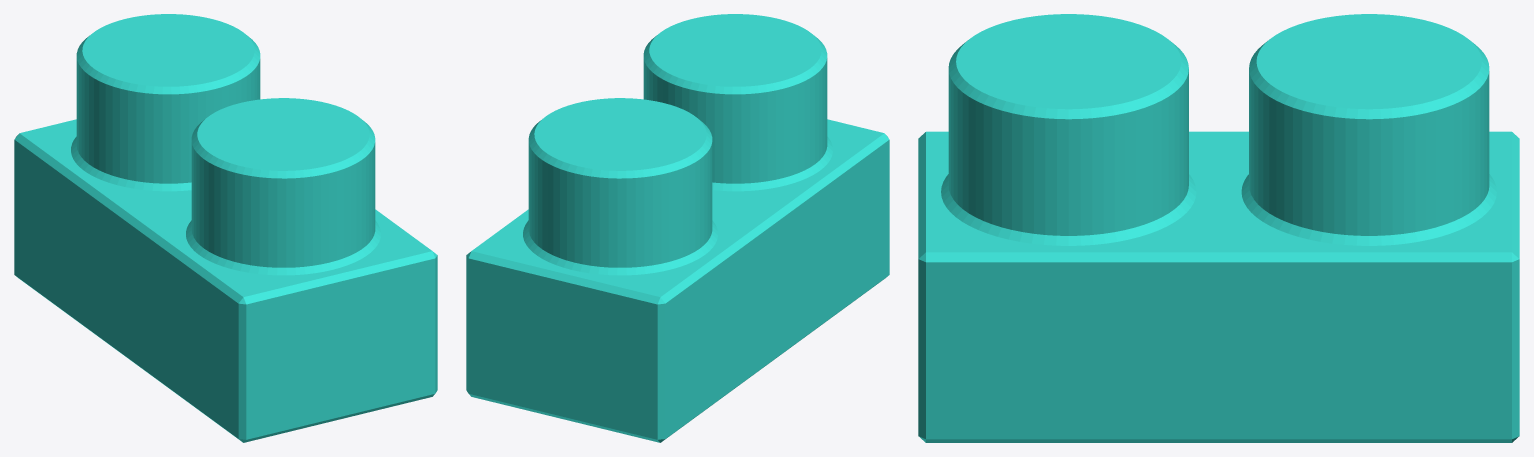
The model's file is lego_6.glb.
3 renders of one model, left to right at view 1: azimuth 30°, elevation 25°; view 2: azimuth 150°, elevation 25°; view 3: azimuth 270°, elevation 25°, orthographic. The views are drawn at different scales.
Visible parts, largest first — view 1: Cube.011; view 2: Cube.011; view 3: Cube.011.
Part boxes in pixels (box(x1,y1,x2,y2)): Cube.011: box(14, 14, 437, 442); Cube.011: box(466, 14, 889, 442); Cube.011: box(918, 14, 1519, 442).
Size of the model in its own units: 1 by 1.18 by 2.
